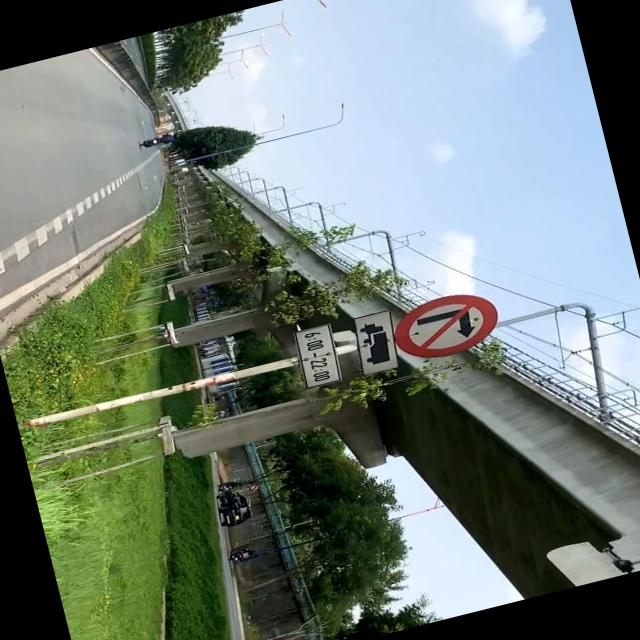P-123b: (387, 284, 504, 366)
